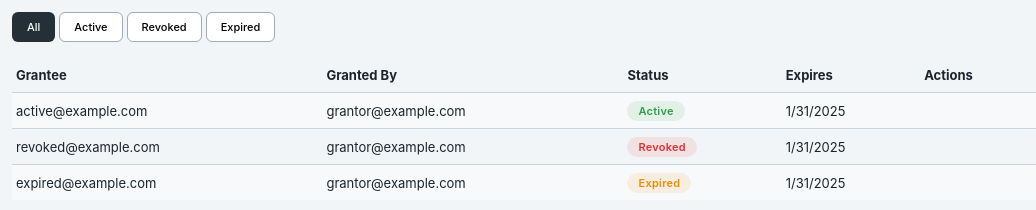
Test: EditGrantsList › Status filtering › should filter to revoked grants only
Click the button with test id "filter-revoked". click: point(164, 27)
box: [126, 12, 202, 42]
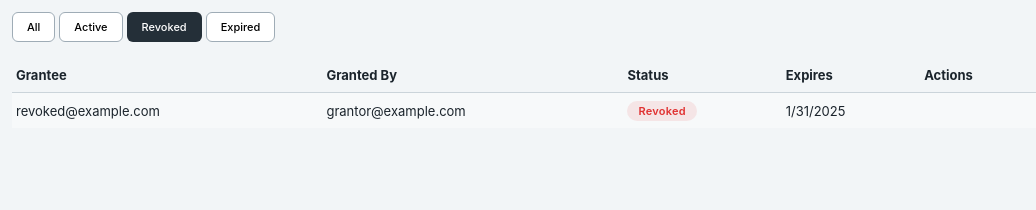
Check: the row with test id "edit-grant-row-revoked-1" is shown, box [12, 93, 1035, 128]
Check: the row with test id "edit-grant-row-active-1" is gone
Check: the row with test id "edit-grant-row-expired-1" is gone
